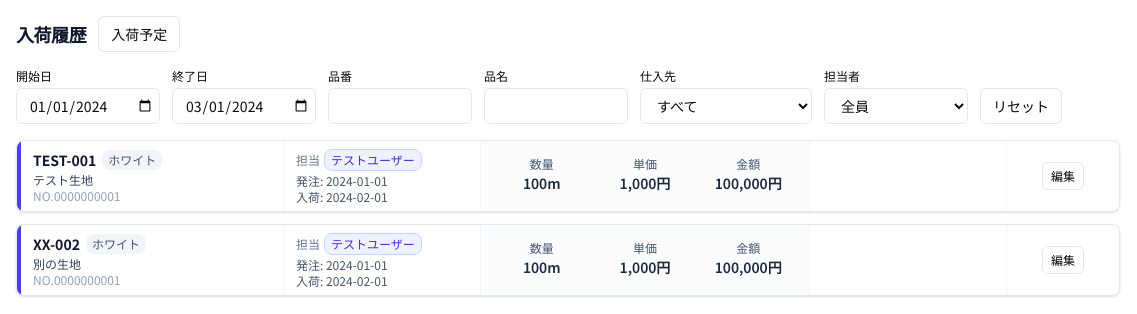
Test: FabricPurchaseConfirmTable 品番・品名・仕入先の絞り込み › 仕入先で絞り込める
Select "別のサプライヤー" in the dropdown labelled "仕入先" at {"x": 726, "y": 106}, box [640, 88, 812, 124]
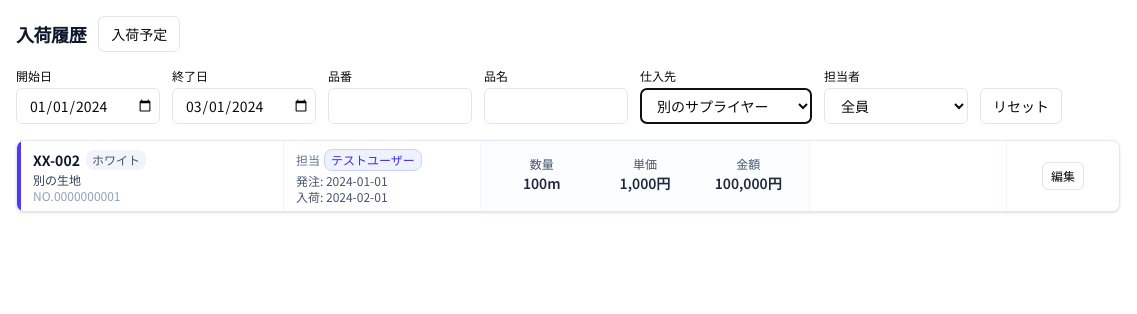
Expected: the text "XX-002" is shown, [33, 153, 80, 167]
Expected: the text "TEST-001" is gone
